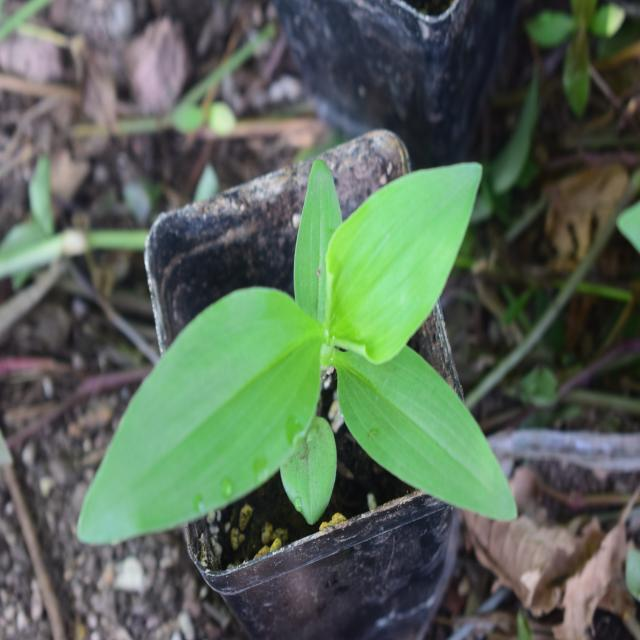Common Dayflower: (67, 151, 523, 535)
